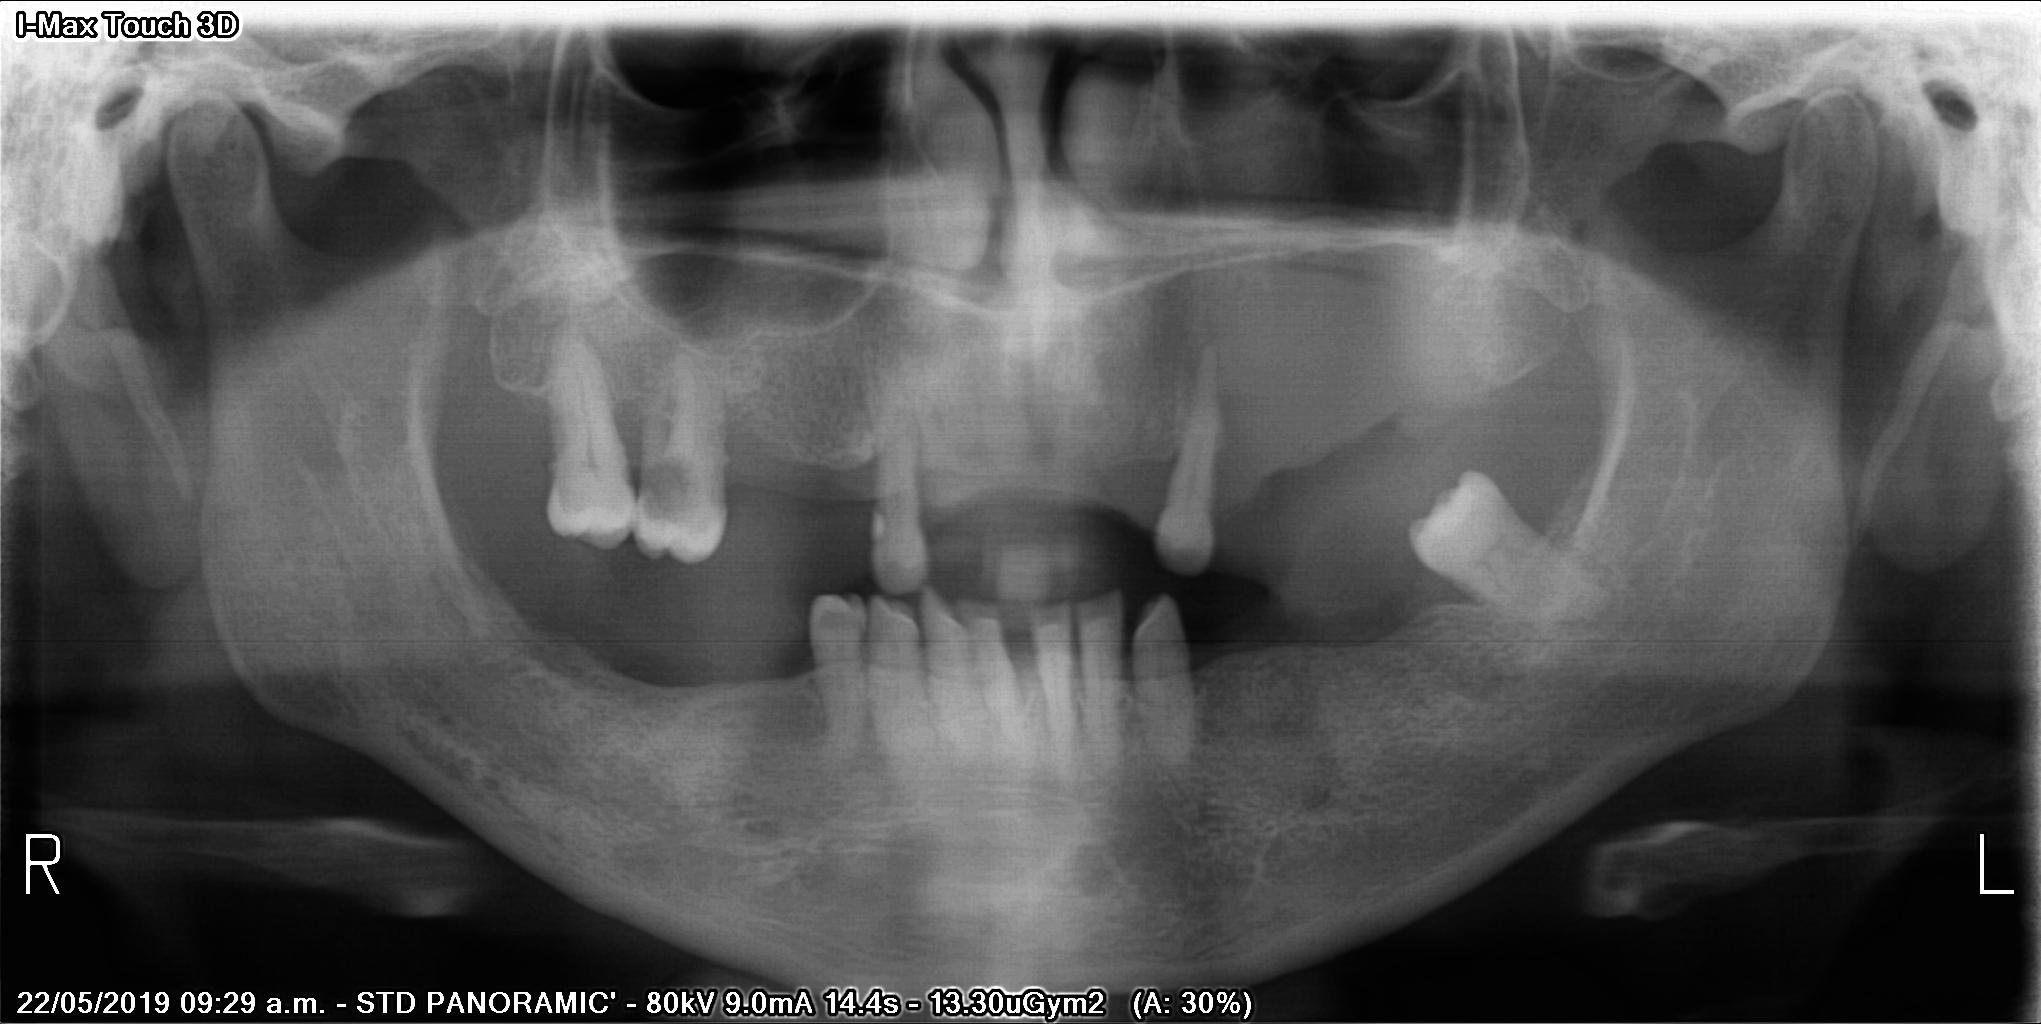Çürük: (864, 518, 888, 558)
